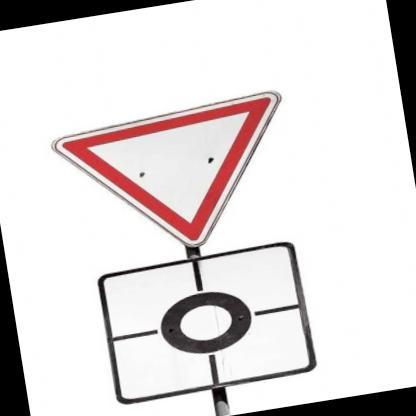road_sign: (54, 92, 280, 257), (98, 243, 315, 402)
